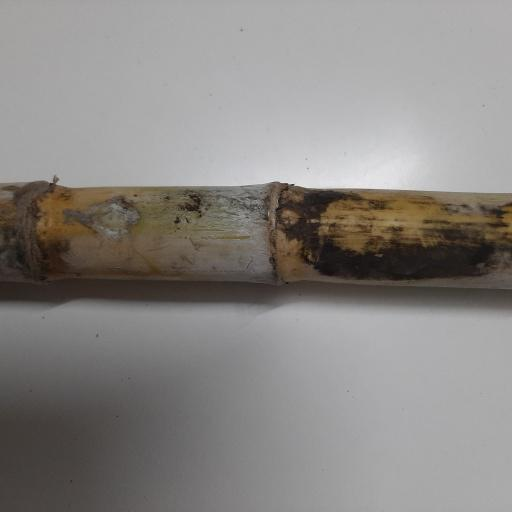Bud: (276, 206, 301, 227)
